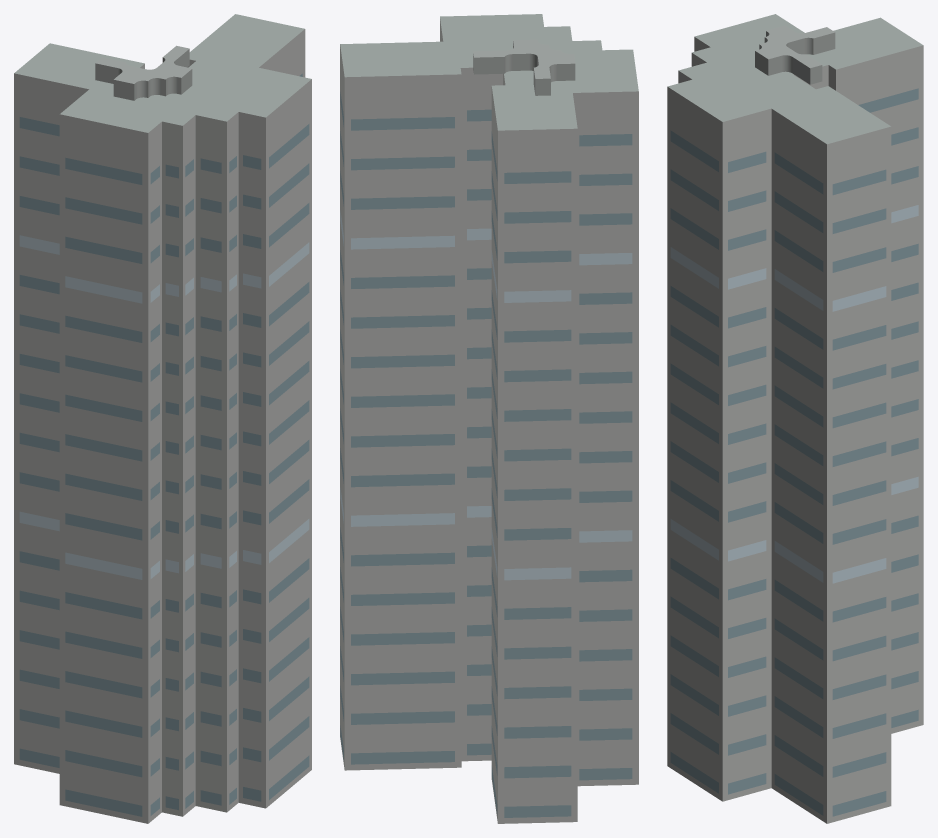
Rendered from fallback-banpo-riche-108.glb.
The picture shows the model from 3 angles, left to right: view 1: azimuth 30°, elevation 25°; view 2: azimuth 150°, elevation 25°; view 3: azimuth 270°, elevation 25°; orthographic projection. The views are drawn at different scales.
Visible parts, largest first — view 1: fallback-banpo-riche-108; view 2: fallback-banpo-riche-108; view 3: fallback-banpo-riche-108.
Boxes of the visible parts, box(x1,y1,x2,y2) form: fallback-banpo-riche-108: box(14, 14, 311, 823); fallback-banpo-riche-108: box(340, 14, 638, 823); fallback-banpo-riche-108: box(667, 14, 923, 823).
Bounding box in the file's own units: 40.55 × 101 × 33.69.
